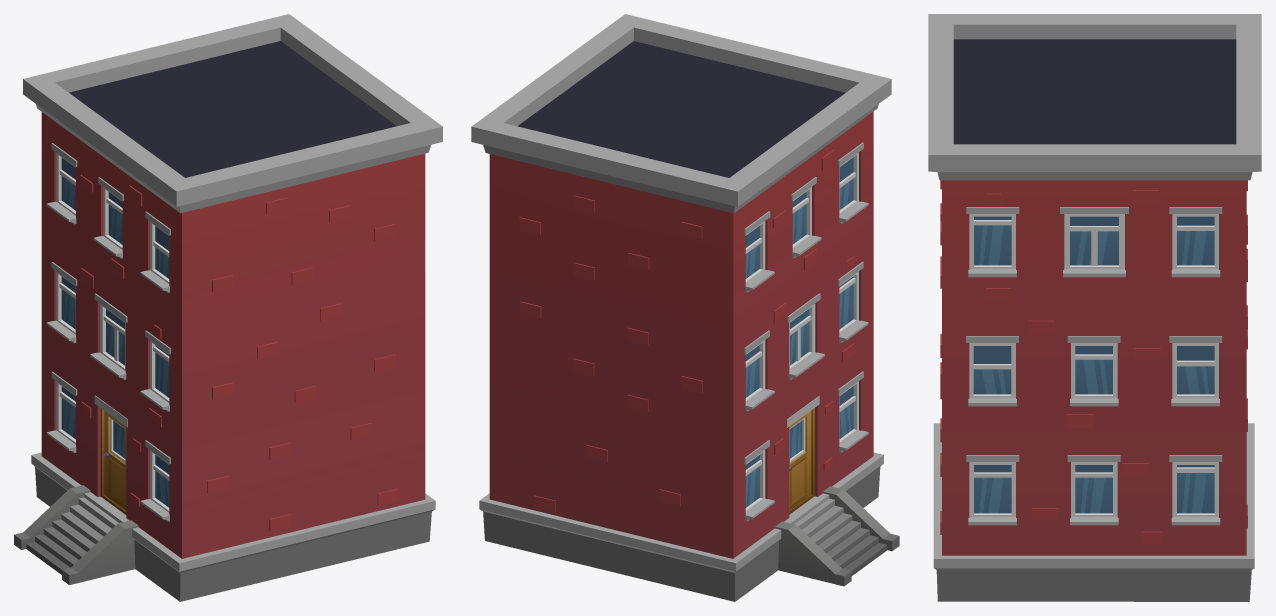
Rendered from Building_2_4_J.fbx.
The picture shows the model from 3 angles, left to right: view 1: azimuth 30°, elevation 25°; view 2: azimuth 150°, elevation 25°; view 3: azimuth 270°, elevation 25°; orthographic projection. The views are drawn at different scales.
Visible parts, largest first — view 1: Building_2_4_J; view 2: Building_2_4_J; view 3: Building_2_4_J.
Boxes of the visible parts, x1,y1,x2,y2 form: Building_2_4_J: (14,14,442,601); Building_2_4_J: (471,14,899,601); Building_2_4_J: (928,14,1261,601).
Bounding box in the file's own units: 754 × 926 × 620.
